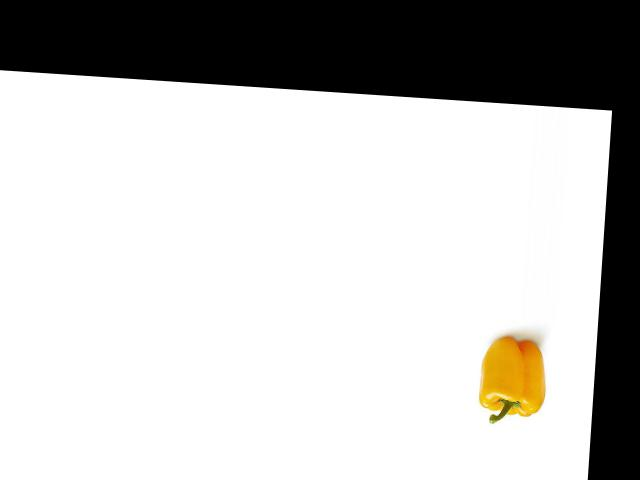bell_pepper: (468, 333, 549, 430)
